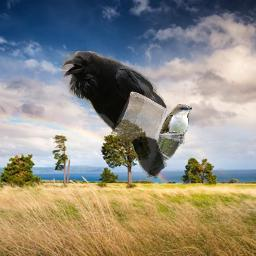Crow: (62, 51, 167, 179)
Cuckoo: (145, 103, 192, 179)
